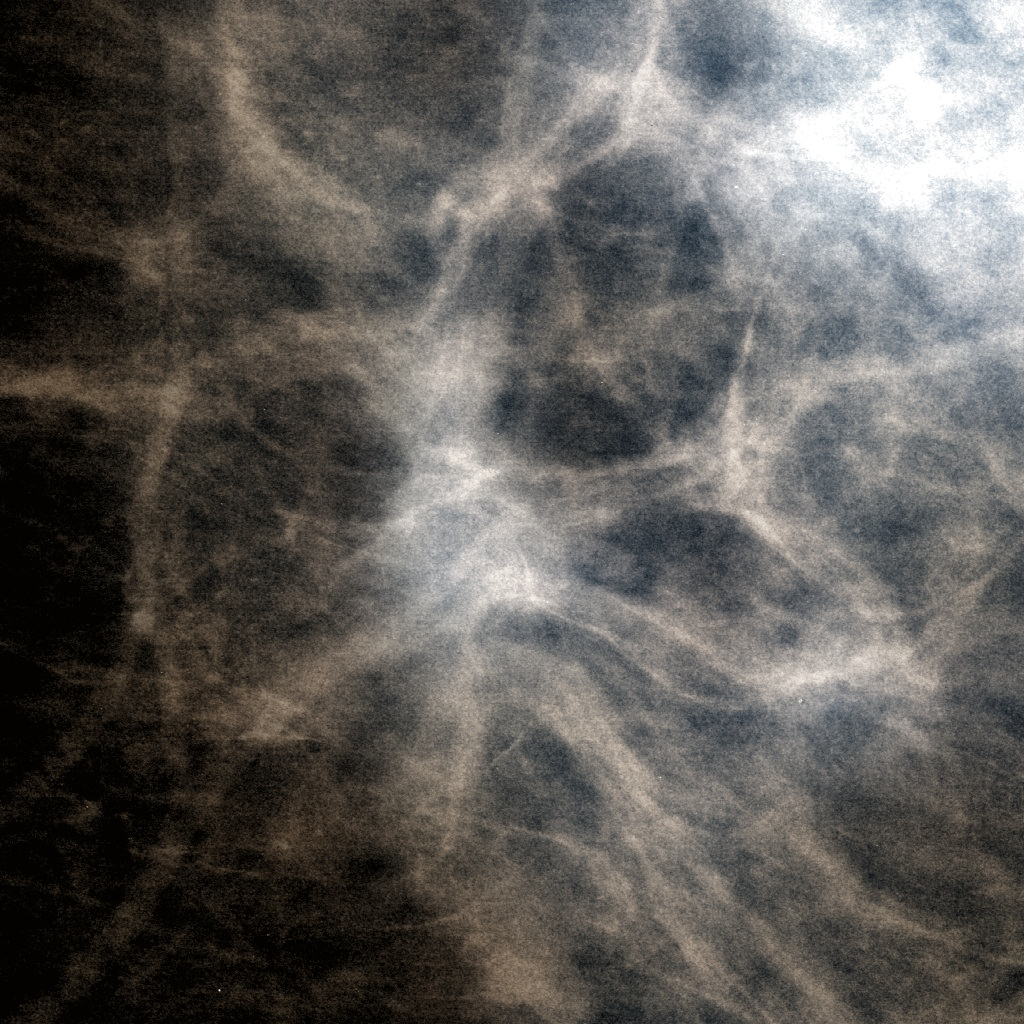tumor: (307, 230, 717, 794)
